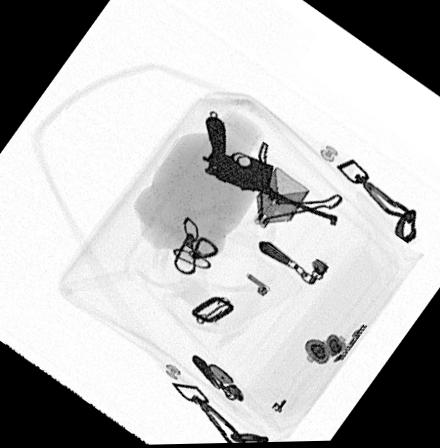Gun: (201, 117, 336, 228)
